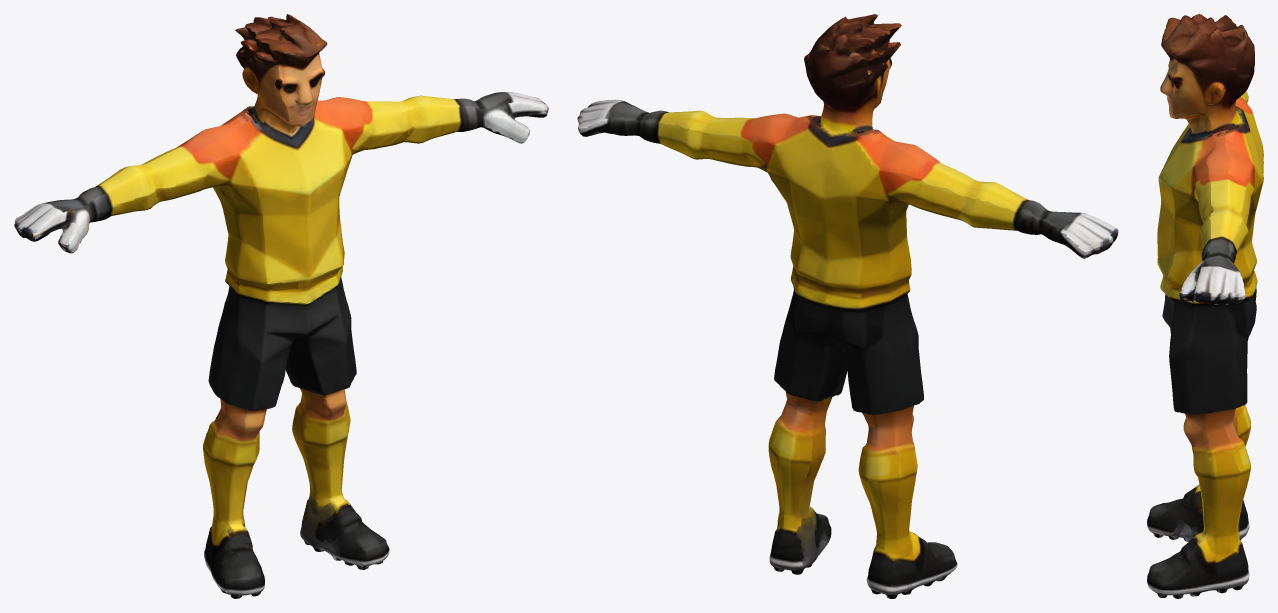
3 renders of one model, left to right at view 1: azimuth 30°, elevation 25°; view 2: azimuth 150°, elevation 25°; view 3: azimuth 270°, elevation 25°, orthographic. The views are drawn at different scales.
Visible parts, largest first — view 1: tmptvslkr1f.ply; view 2: tmptvslkr1f.ply; view 3: tmptvslkr1f.ply.
Part boxes in pixels (x1,y1,x2,y2): tmptvslkr1f.ply: (14, 14, 548, 598); tmptvslkr1f.ply: (577, 14, 1118, 598); tmptvslkr1f.ply: (1147, 14, 1263, 598).
Bounding box in the file's own units: 1.96 × 1.96 × 0.3837.
Materials: 1 (1 with a texture image).
